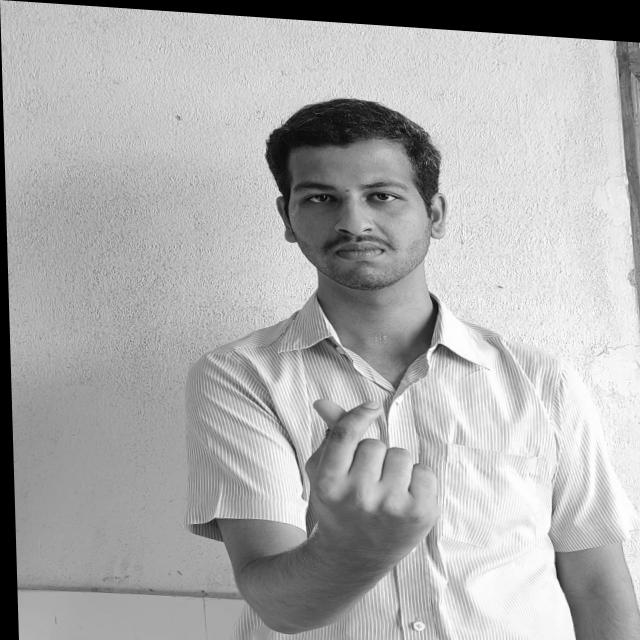Grattitude: (289, 387, 448, 555)
